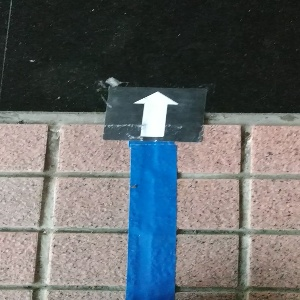straight: (102, 86, 206, 140)
